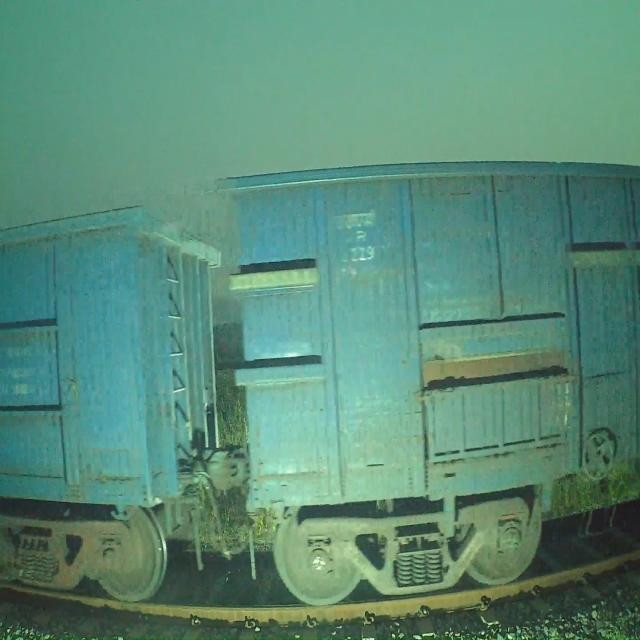WAgon-uic: (214, 159, 640, 603), (0, 202, 224, 602)
